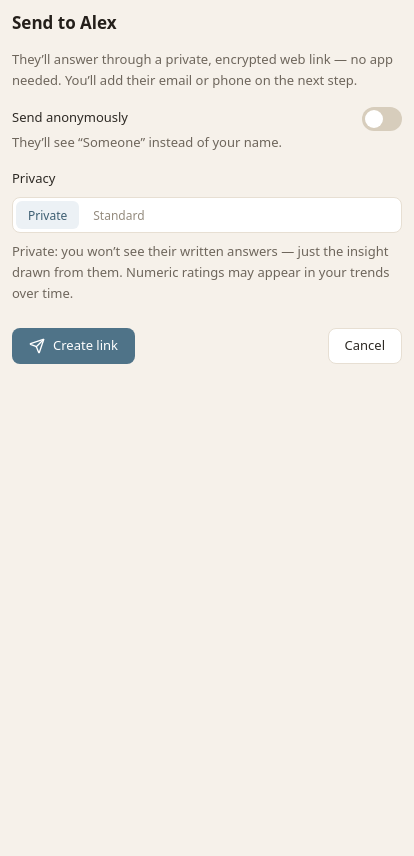
Test: RelaySendPanel › mints a link + PIN and surfaces delivery options
The image size is (414, 856).
Expected: the heading "Send to Alex" is shown, x1=12 y1=11 x2=116 y2=34
Step 1. Click the button "Create link" → point(74, 346), box x1=12 y1=328 x2=135 y2=364
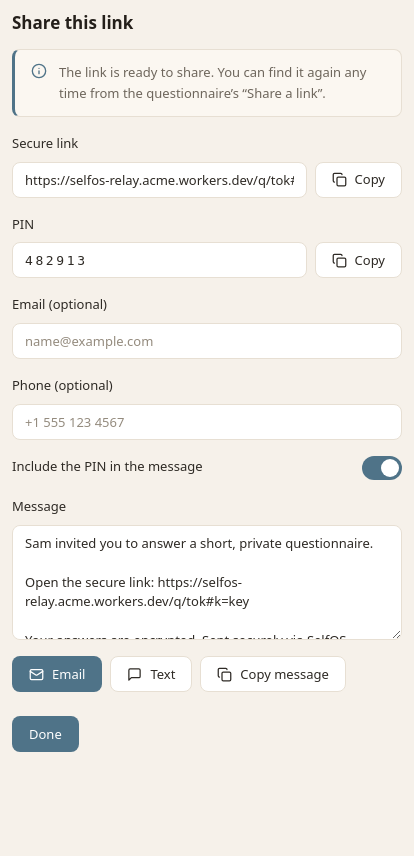
Expected: the heading "Share this link" is shown, x1=12 y1=11 x2=133 y2=34
Expected: the field showing "https://selfos-relay.acme.workers.dev/q/tok#k=key" is shown, x1=12 y1=162 x2=306 y2=198
Expected: the field showing "482913" is shown, x1=12 y1=242 x2=306 y2=278
